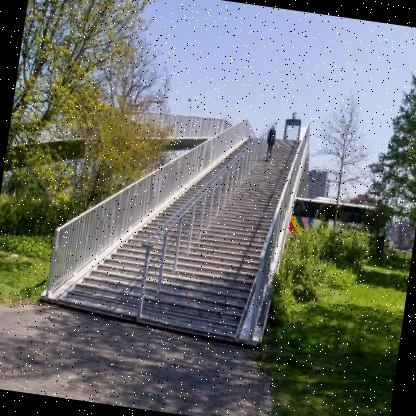stair: (115, 116, 294, 340)
